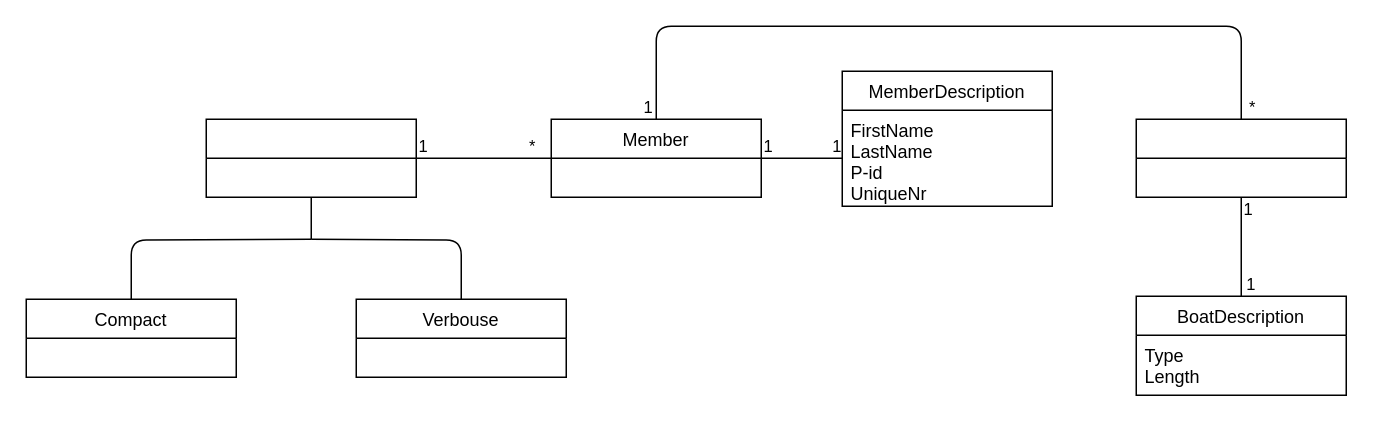
Some shapes in this 1373 by 426 pixel diagram are drawn without their labels. Here are the shapes that lost their labels. From the top down, the centre of each, then its label:
At point 310,157: "MemberList".
At point 1240,157: "Boat".
